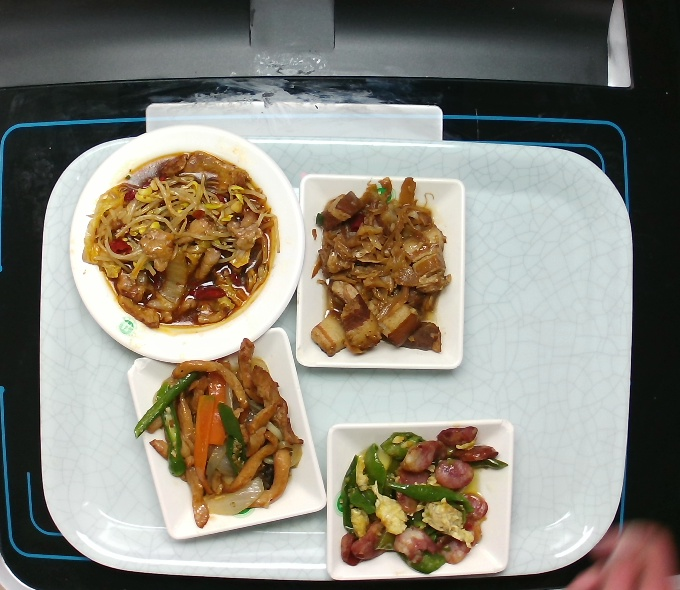wcq-HongShaoRou: (307, 172, 455, 360)
wcq-QingJiaoChaoDaChang: (333, 423, 512, 572)
wcq-QingJiaoRouSi: (131, 336, 305, 532)
wcq-ShuiZhuRouPian: (80, 144, 284, 334)
